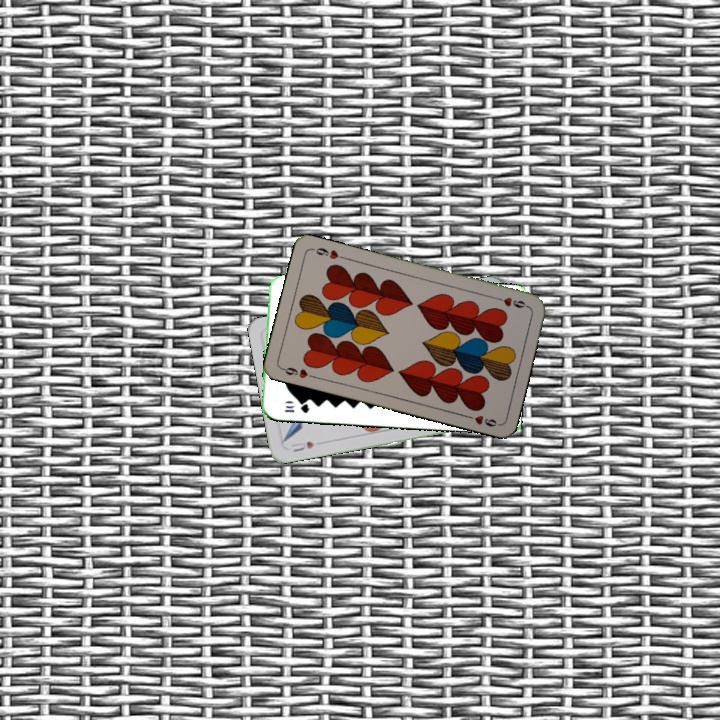G10: (281, 399, 312, 415)
H9: (278, 363, 318, 381), (491, 293, 531, 310)
HU: (288, 437, 317, 454)
